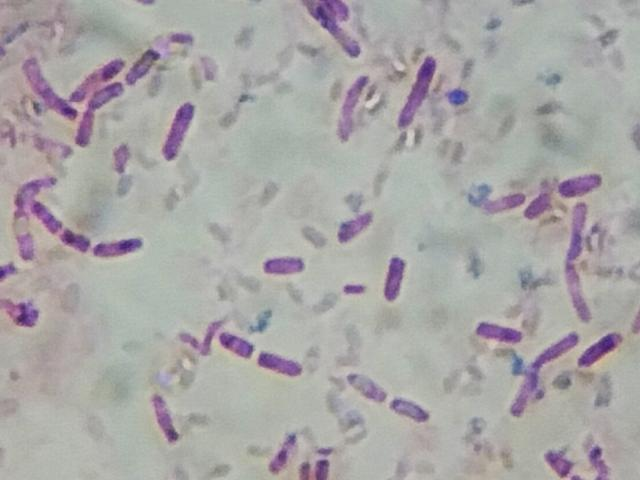E. coli: (563, 202, 594, 323), (396, 56, 445, 129), (335, 70, 371, 145), (19, 56, 59, 121), (311, 16, 366, 62), (162, 97, 196, 162), (142, 387, 177, 441), (92, 229, 144, 264), (379, 247, 410, 305), (506, 362, 538, 414), (553, 172, 612, 199), (529, 325, 573, 361), (21, 172, 72, 203), (259, 249, 307, 281), (73, 59, 127, 86), (582, 332, 622, 368), (319, 0, 365, 29), (476, 313, 513, 349), (127, 45, 163, 82), (13, 205, 36, 262), (396, 397, 433, 431), (91, 82, 129, 114), (269, 425, 297, 467), (255, 347, 296, 375), (341, 207, 377, 238), (351, 366, 383, 400), (526, 187, 556, 223), (302, 450, 337, 480), (1, 296, 33, 328), (478, 187, 521, 210), (36, 199, 66, 229), (220, 326, 249, 353), (541, 450, 566, 479), (65, 229, 89, 254), (342, 279, 366, 303), (75, 106, 90, 144)
